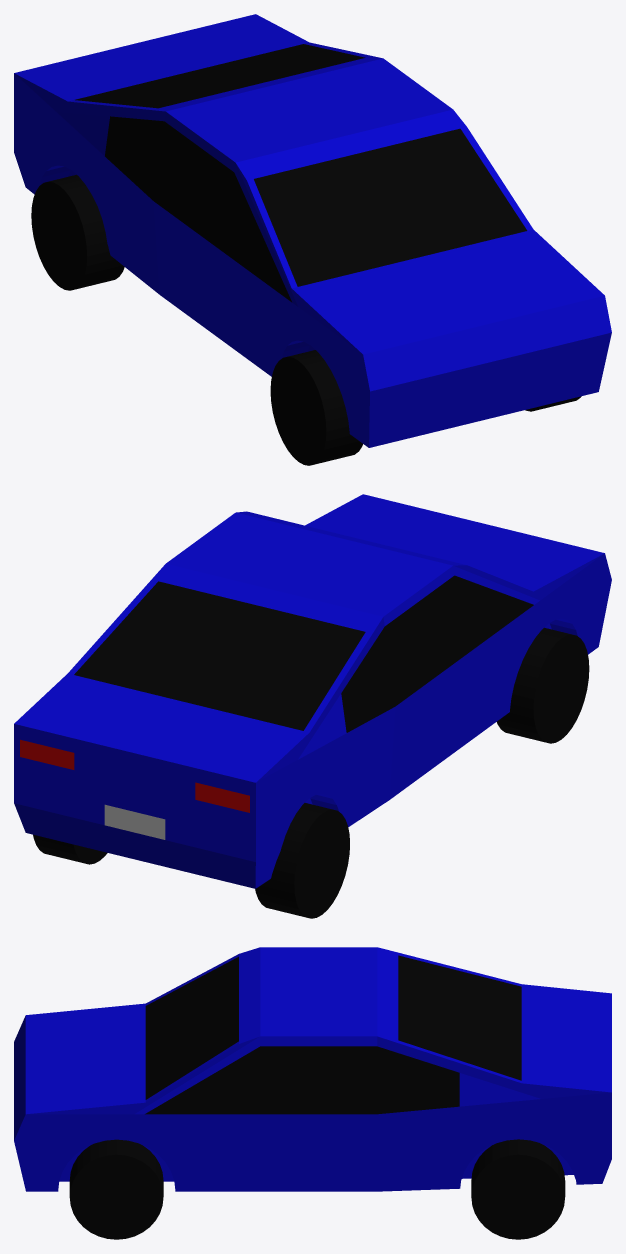
File: 0.25sizecar.obj
3 views of the same model, one above another, from view 1: azimuth 30°, elevation 25°; view 2: azimuth 150°, elevation 25°; view 3: azimuth 270°, elevation 25° (orthographic). The views are drawn at different scales.
Visible parts, largest first — view 1: Cube, Cylinder; view 2: Cube, Cylinder; view 3: Cube, Cylinder.
Boxes of the visible parts, x1,y1,x2,y2 form: Cube: (14,14,611,447); Cylinder: (31,174,581,465); Cube: (14,494,611,888); Cylinder: (33,627,589,918); Cube: (14,947,611,1191); Cylinder: (69,1139,565,1239).
Size of the model in its own units: 0.5431 by 0.4566 by 1.27.
